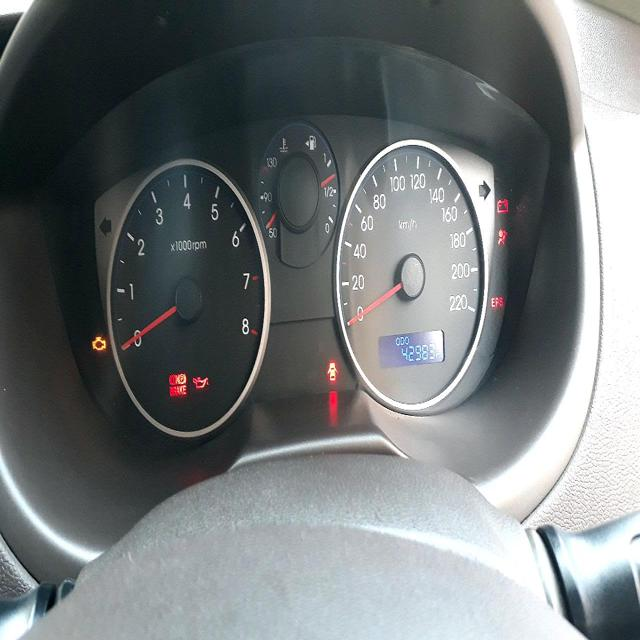odometer: (399, 341, 438, 364)
